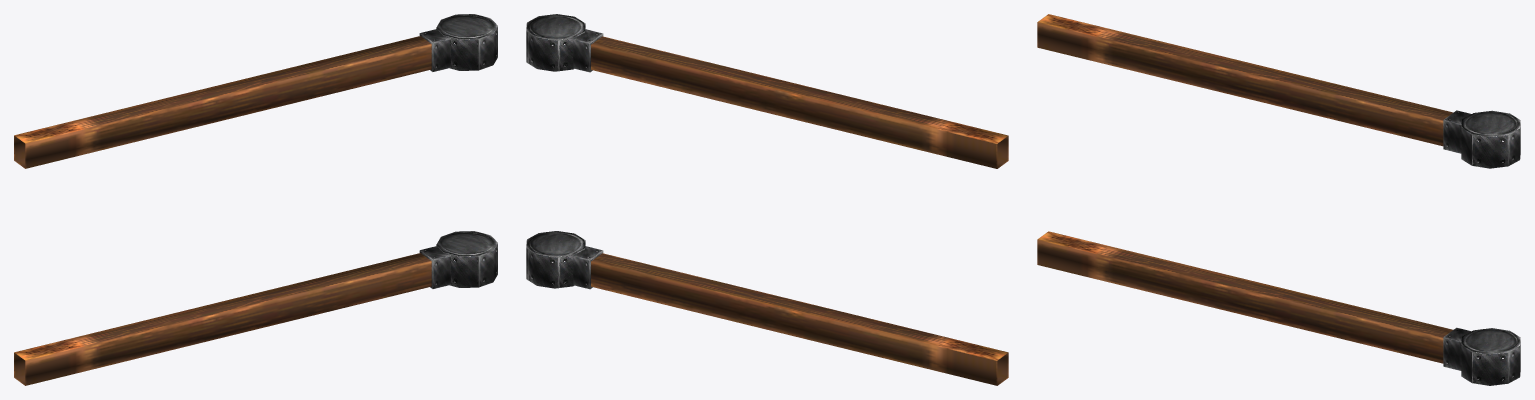
File: INST_SWORDLIGHT_WATERWHLSLIDER.obj
3 views of the same model, side by side, from view 1: azimuth 30°, elevation 25°; view 2: azimuth 150°, elevation 25°; view 3: azimuth 330°, elevation 25° (orthographic).
Visible parts, largest first — view 1: hlslide_Lod1_01; view 2: hlslide_Lod1_01; view 3: hlslide_Lod1_01.
Part boxes in pixels (<box>): hlslide_Lod1_01: <box>14,14,497,385</box>; hlslide_Lod1_01: <box>526,14,1008,385</box>; hlslide_Lod1_01: <box>1037,14,1520,385</box>.
Bounding box in the file's own units: 1826 × 916 × 204.
